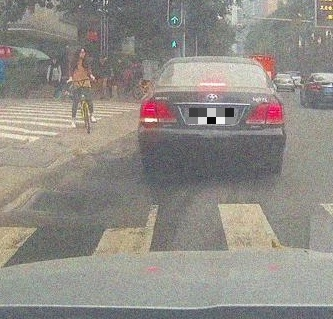L_light: (140, 101, 177, 123)
R_light: (246, 101, 283, 123)
T_light: (199, 82, 226, 86)
day-left: (139, 57, 286, 175)
plate_1: (189, 108, 234, 124)
